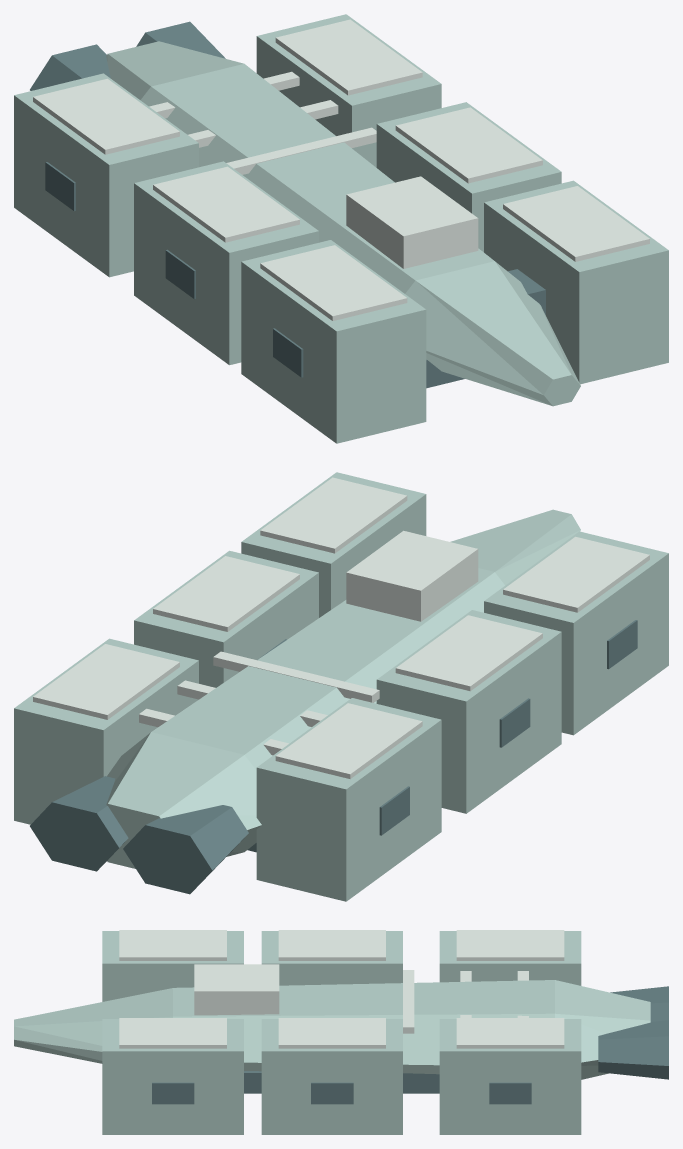
3 renders of one model, top to bottom at view 1: azimuth 30°, elevation 25°; view 2: azimuth 150°, elevation 25°; view 3: azimuth 270°, elevation 25°, orthographic. The views are drawn at different scales.
Size of the model in its own units: 4.36 by 1.62 by 9.91.
